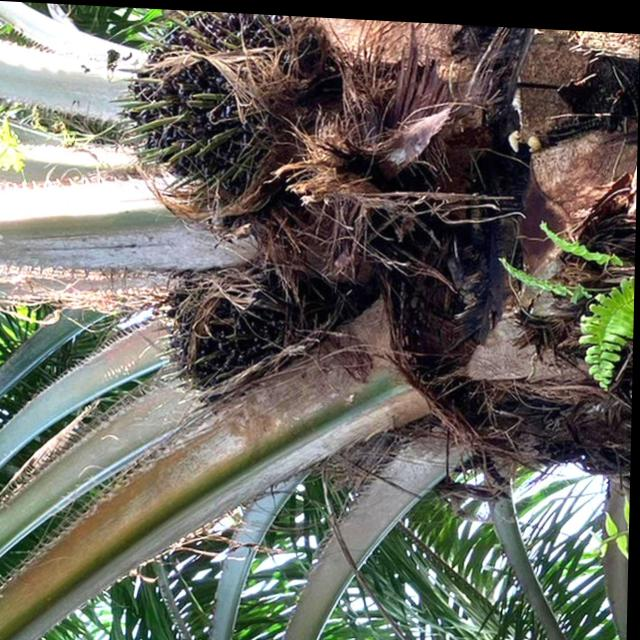unripe: (102, 6, 333, 217), (142, 258, 335, 417)
